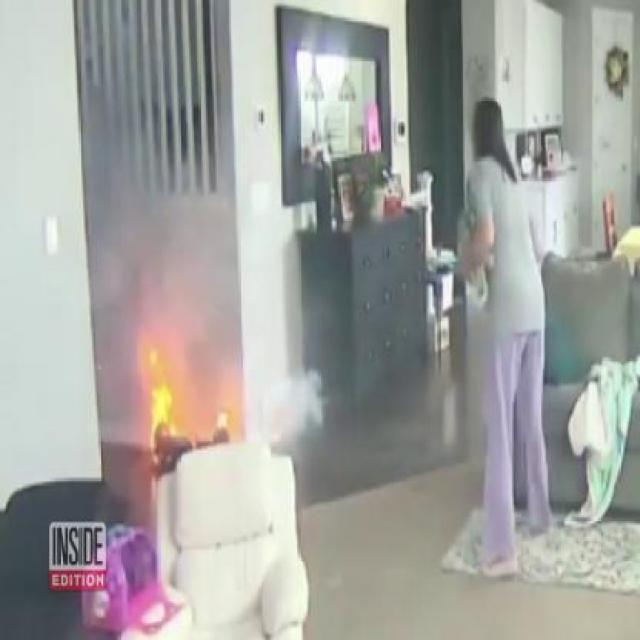fire: (130, 326, 239, 482)
smoke: (101, 159, 324, 433)
